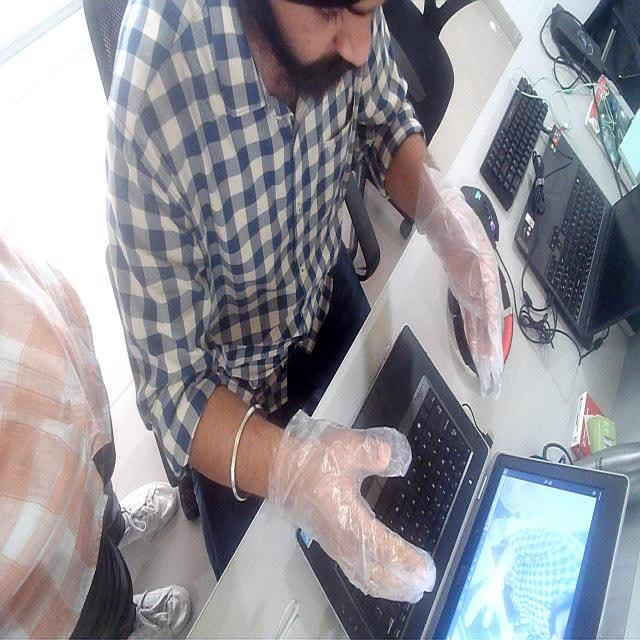with_gloves: (262, 408, 429, 592), (404, 178, 528, 312)
